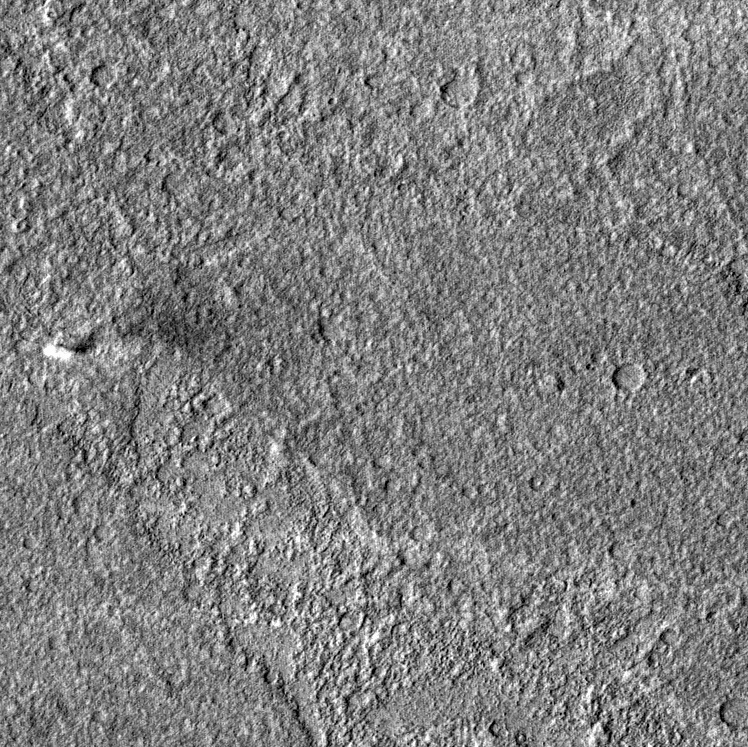dust_devil: (40, 306, 213, 363)
